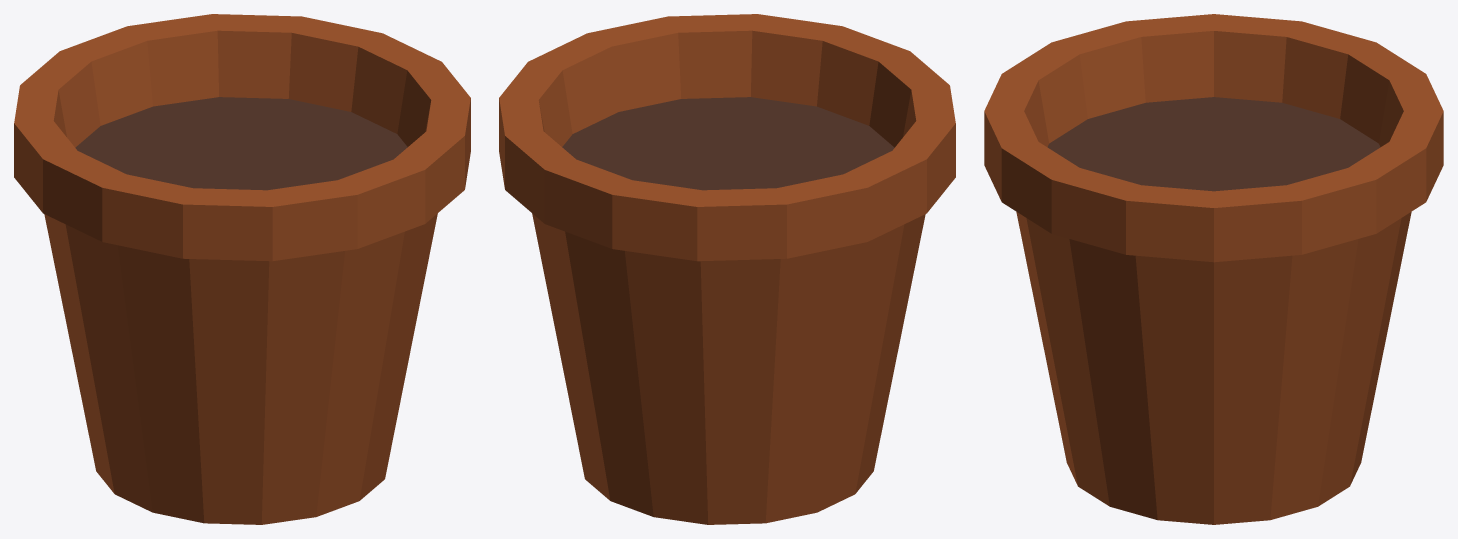
File: Pot_Medium.fbx
3 views of the same model, side by side, from view 1: azimuth 30°, elevation 25°; view 2: azimuth 150°, elevation 25°; view 3: azimuth 270°, elevation 25° (orthographic).
Visible parts, largest first — view 1: Pot_Medium; view 2: Pot_Medium; view 3: Pot_Medium.
Boxes of the visible parts, x1,y1,x2,y2 form: Pot_Medium: [14, 14, 470, 524]; Pot_Medium: [499, 14, 955, 524]; Pot_Medium: [984, 14, 1443, 524].
Size of the model in its own units: 40.32 by 34.06 by 40.32.
